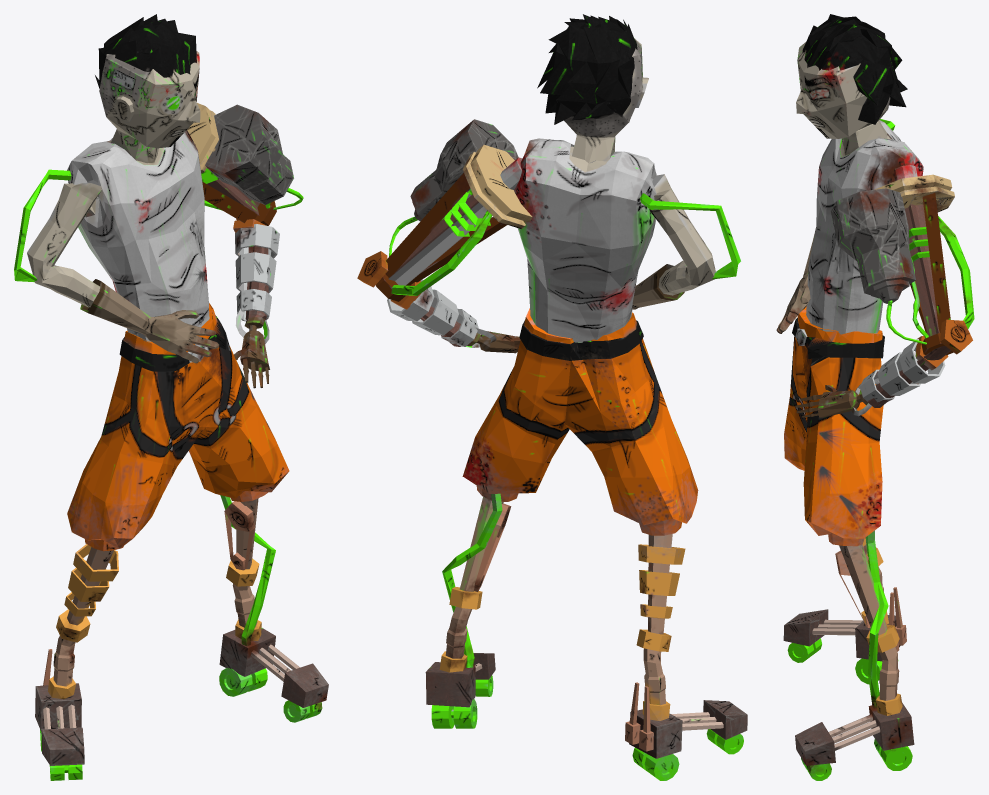
File: CyborgFINALAnimation_000070.obj
3 views of the same model, side by side, from view 1: azimuth 30°, elevation 25°; view 2: azimuth 150°, elevation 25°; view 3: azimuth 270°, elevation 25° (orthographic). The views are drawn at different scales.
Parts seen in each view (by area): view 1: CyborgMesh_Cube.002; view 2: CyborgMesh_Cube.002; view 3: CyborgMesh_Cube.002.
Boxes of the visible parts, x1,y1,x2,y2 form: CyborgMesh_Cube.002: (14,14,328,780); CyborgMesh_Cube.002: (357,14,747,780); CyborgMesh_Cube.002: (776,14,974,780).
Bounding box in the file's own units: 4.42 × 9.6 × 2.48.
